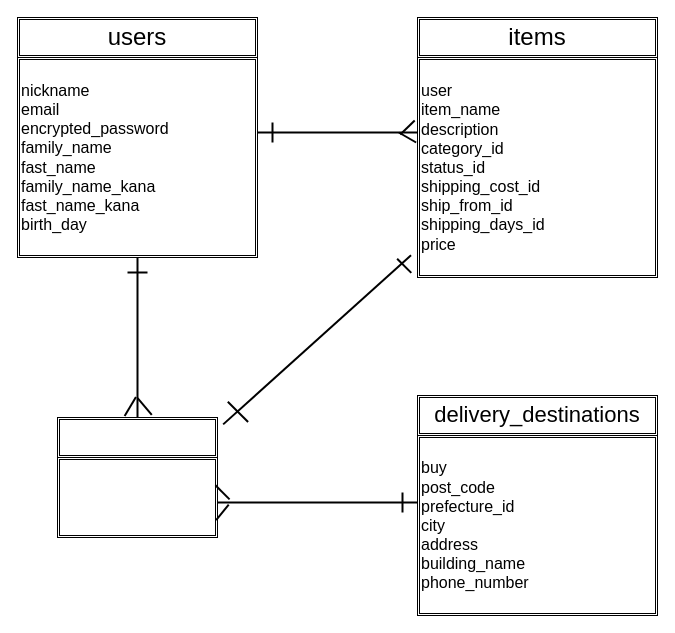
Some shapes in this 675 by 633 pixel diagram are drawn without their labels. Here are the shapes that lost their labels. From the top down, the centre of each, then its label:
At point (137, 437): "buy".
At point (137, 497): "user_id item_id".
